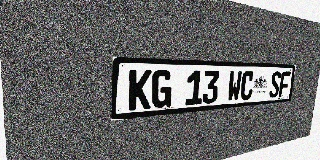1: (185, 70, 204, 106)
3: (202, 71, 219, 104)
C: (240, 71, 255, 101)
F: (278, 72, 290, 97)
G: (151, 70, 173, 109)
K: (128, 70, 152, 111)
S: (269, 71, 281, 98)
W: (227, 71, 242, 102)
